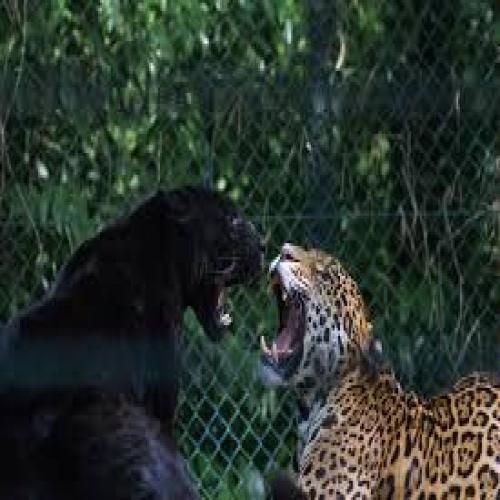panther-endangered: (0, 169, 265, 499)
